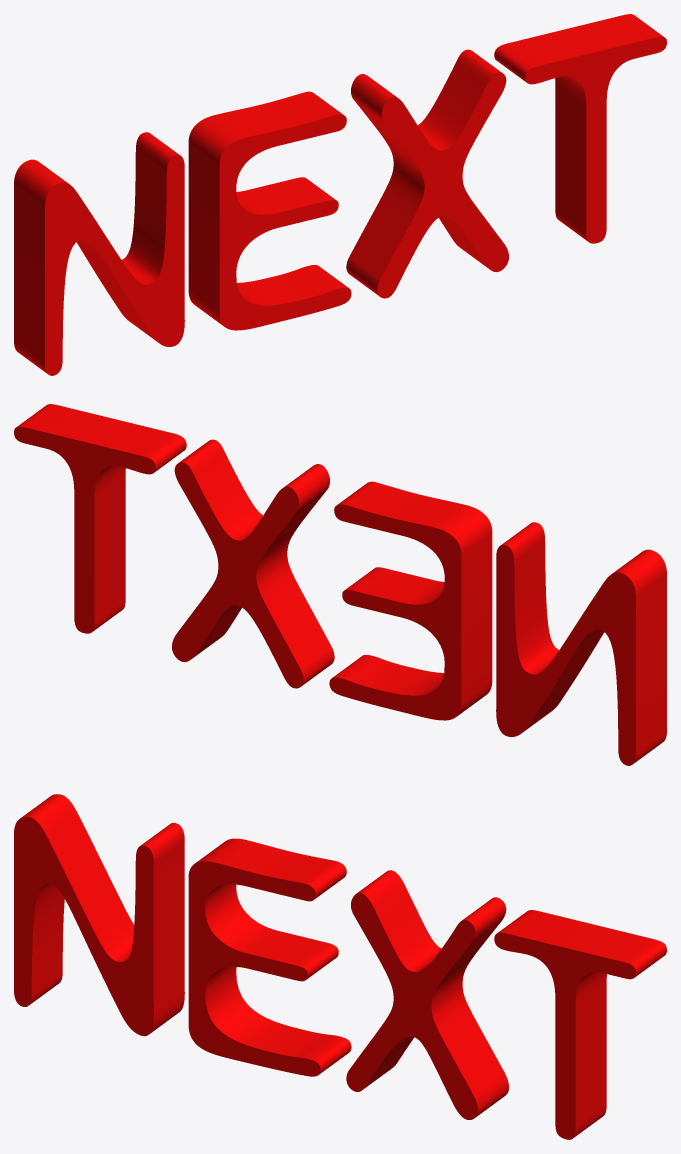
Rendered from next.glb.
The picture shows the model from 3 angles, top to bottom: view 1: azimuth 30°, elevation 25°; view 2: azimuth 150°, elevation 25°; view 3: azimuth 330°, elevation 25°; orthographic projection.
Parts seen in each view (by area): view 1: Text; view 2: Text; view 3: Text.
Part boxes in pixels (left/top/right/bottom): Text: left=14, top=14, right=666, bottom=375; Text: left=14, top=404, right=666, bottom=765; Text: left=14, top=794, right=666, bottom=1139.
Bounding box in the file's own units: 2.55 × 0.7872 × 0.22.
